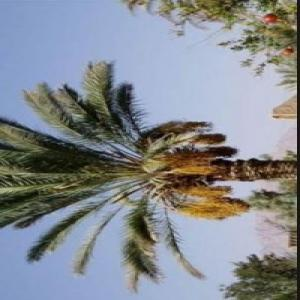palm tree: (0, 59, 296, 293)
